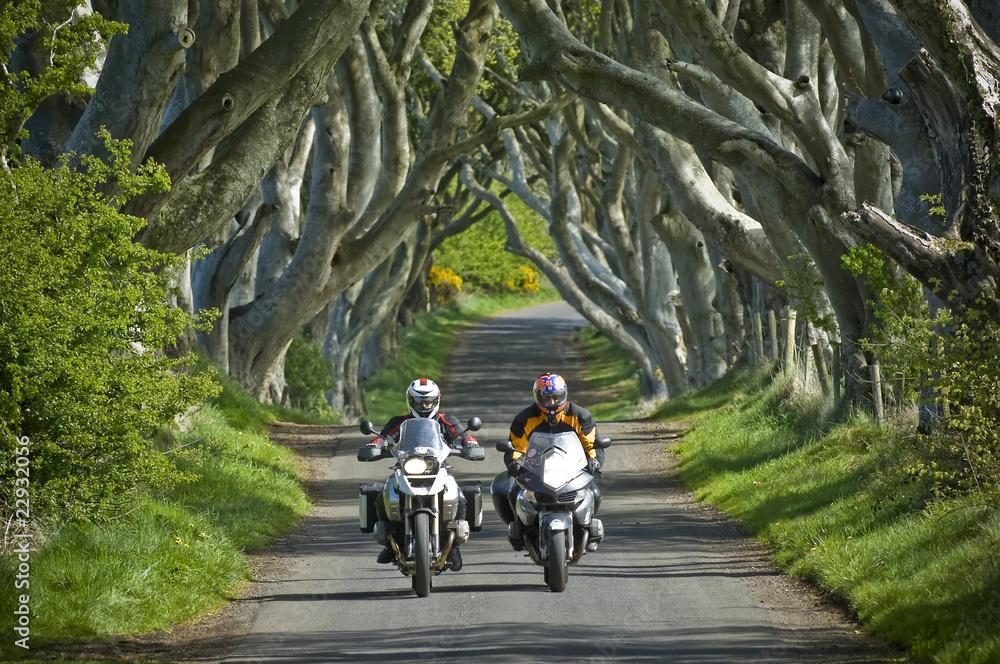helmet: (533, 371, 568, 427), (406, 377, 441, 424)
